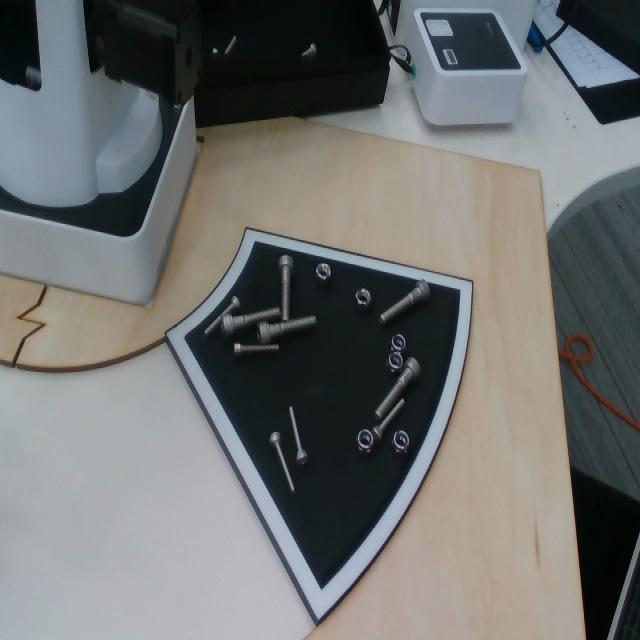big: (367, 355, 426, 422), (372, 273, 437, 330), (219, 304, 281, 336), (258, 316, 319, 346), (273, 256, 300, 321)
circle: (355, 429, 376, 459), (390, 333, 408, 365), (390, 430, 410, 458), (313, 262, 334, 287), (352, 286, 372, 312), (385, 351, 404, 375)
small: (265, 430, 302, 502), (199, 289, 248, 342), (370, 390, 411, 443), (284, 403, 310, 465), (233, 343, 278, 354)
